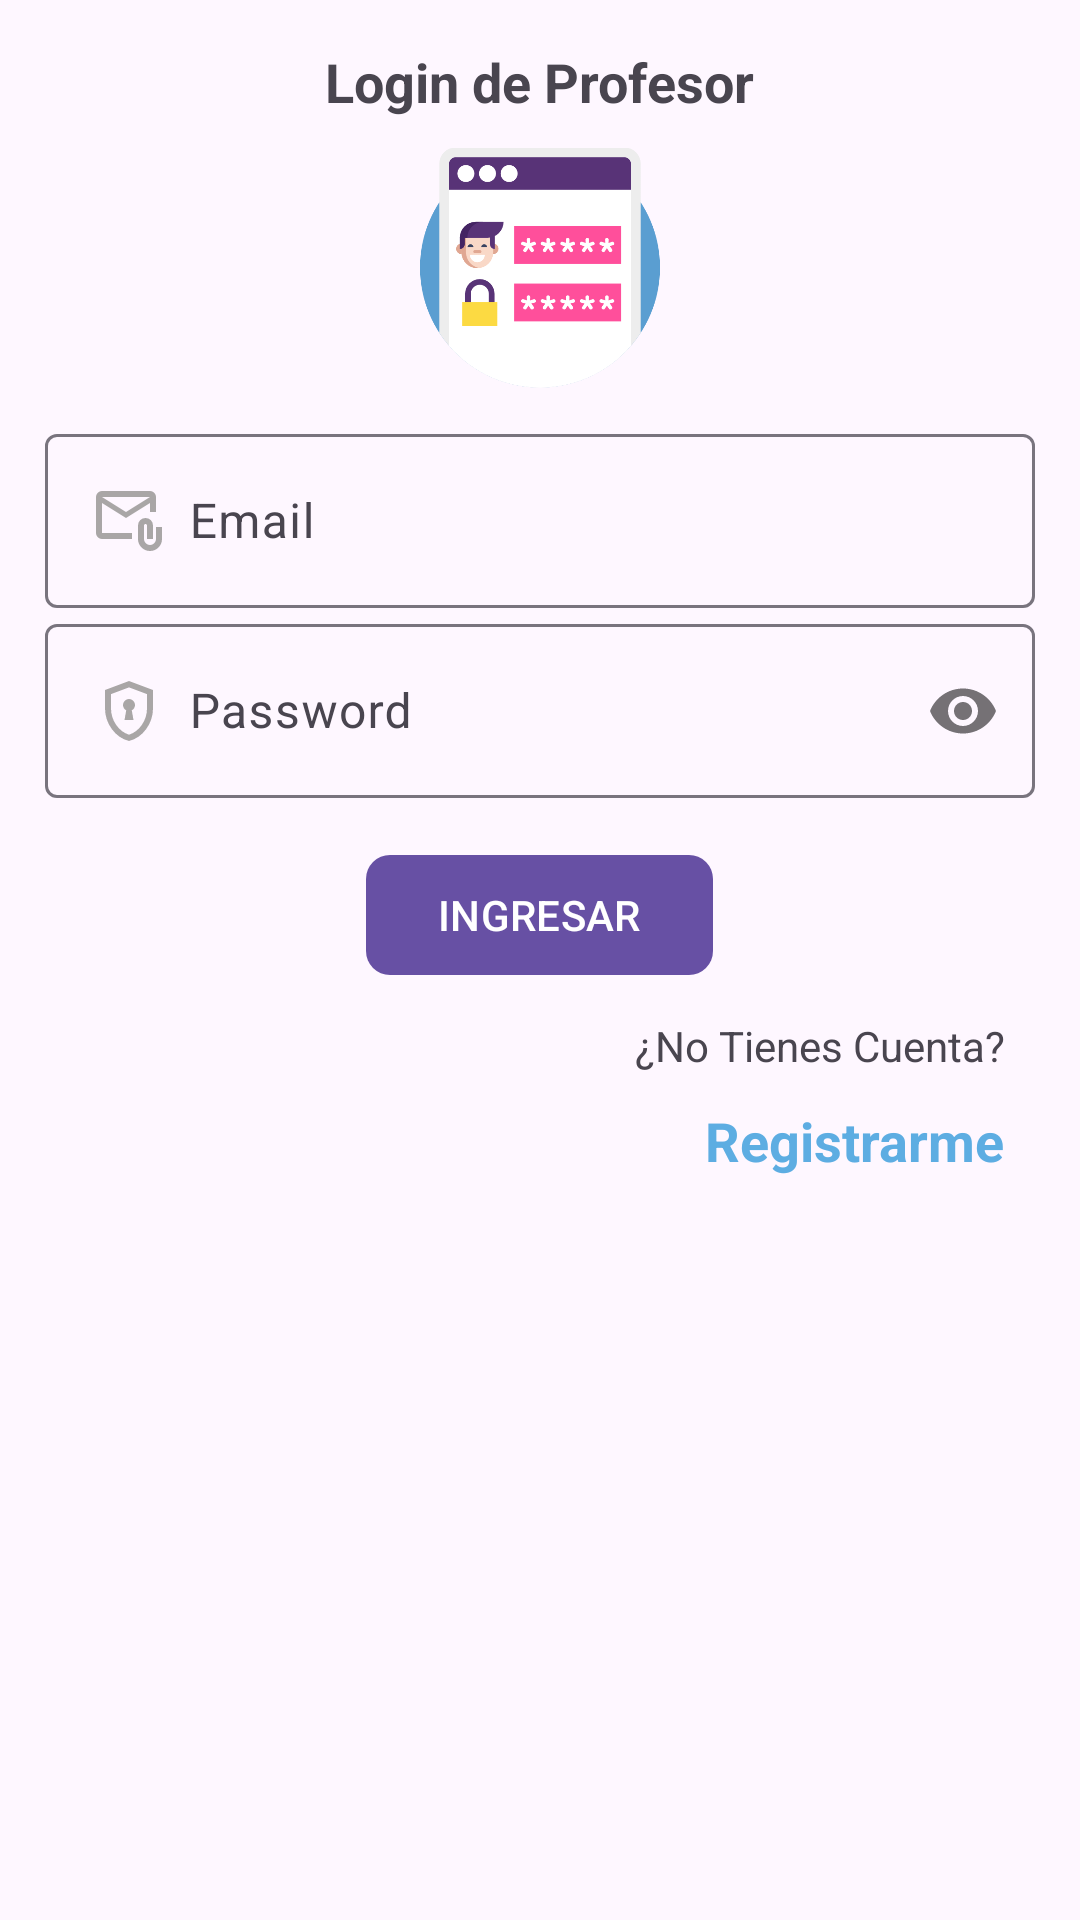

Locate icon controls on the screen. Image size 1080*1920, boxes as (x1, y1, x2, y2).
login cliente: (420, 148, 660, 388)
